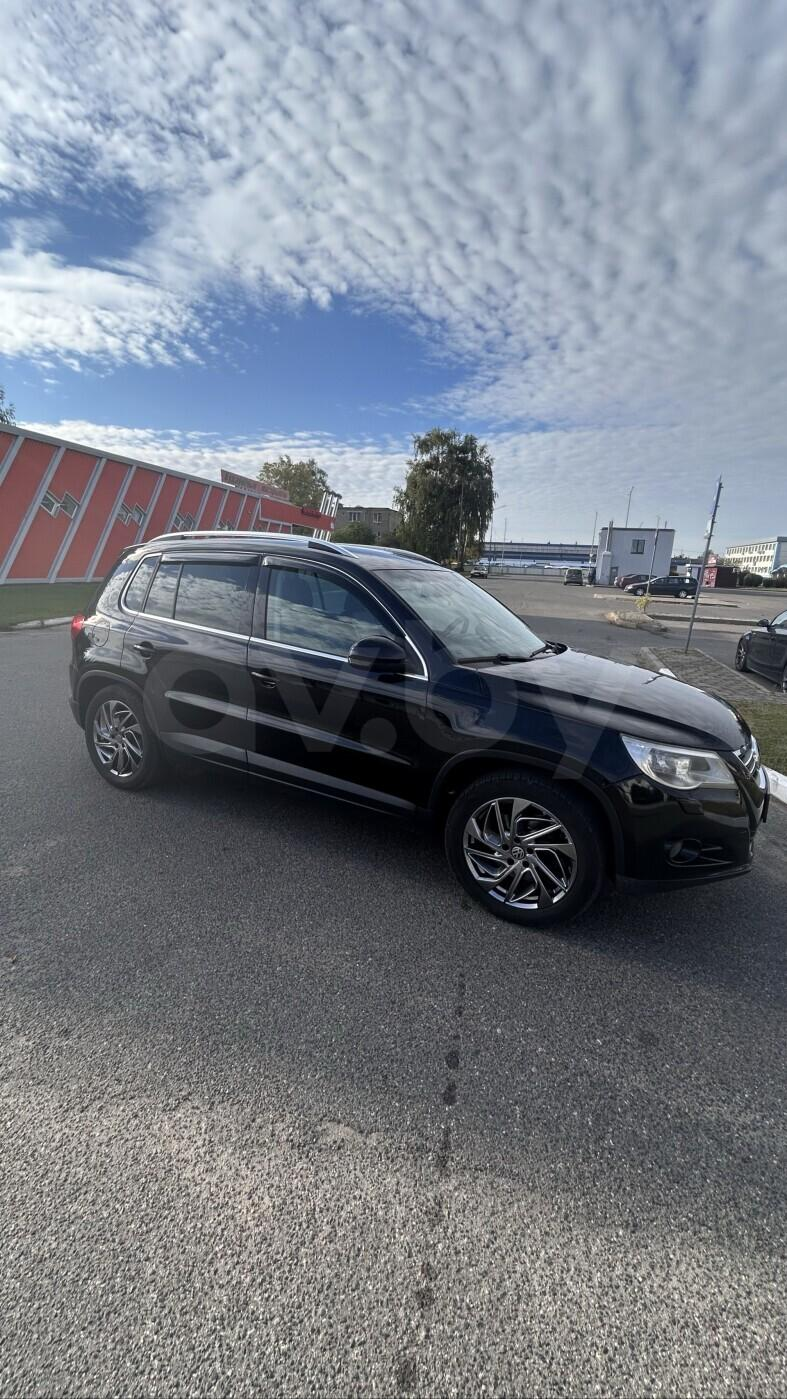Tiguan_2007-2011: (66, 528, 768, 926)
